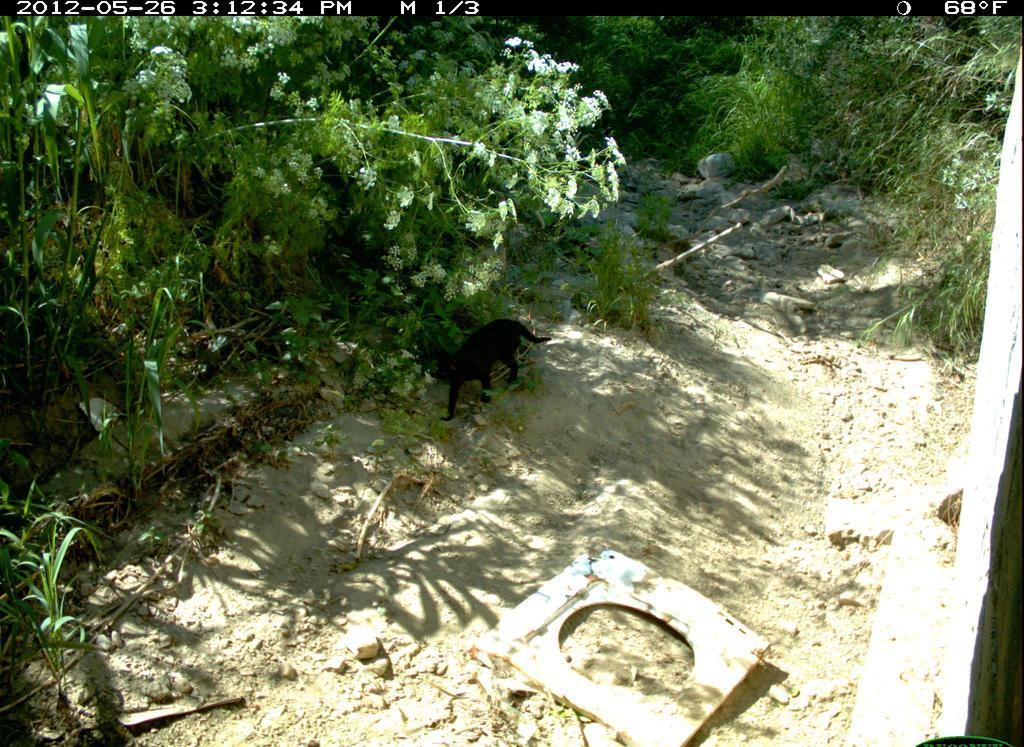cat: (417, 321, 553, 427)
